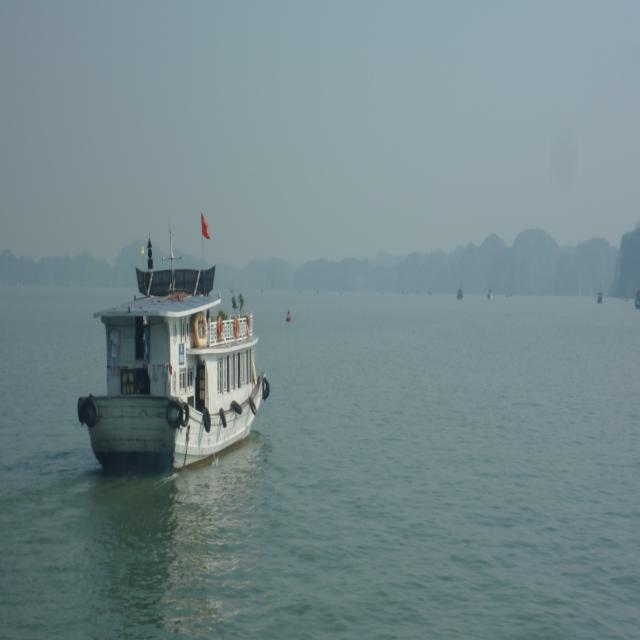fishing boat: (77, 246, 270, 478)
